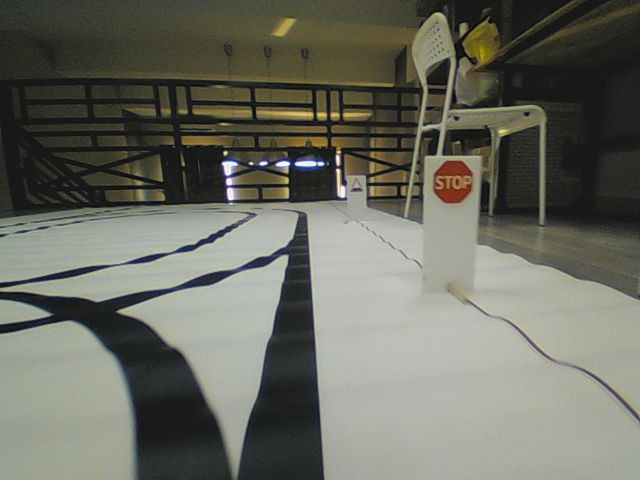Nerov: (349, 177, 364, 194)
Stop: (433, 159, 474, 205)
